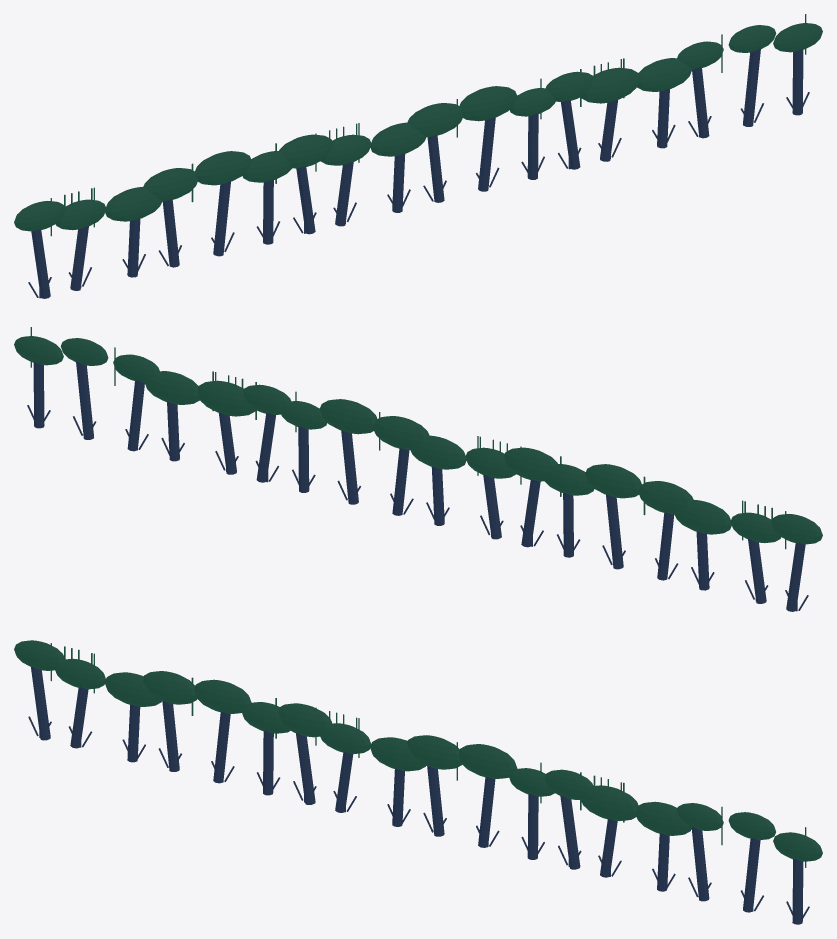
File: reach_mid.glb
3 renders of one model, top to bottom at view 1: azimuth 30°, elevation 25°; view 2: azimuth 150°, elevation 25°; view 3: azimuth 330°, elevation 25°, orthographic.
Parts seen in each view (by area): view 1: Sphere.013, Sphere.005, Sphere.012, Sphere.006, Sphere.008, Sphere.010, Sphere.007, Sphere.001, Sphere.009, Sphere, Sphere.003, Sphere.015 (+24 smaller); view 2: Sphere.013, Sphere.005, Sphere.012, Sphere.006, Sphere.008, Sphere.010, Sphere.007, Sphere.001, Sphere.009, Sphere, Sphere.003, Sphere.015 (+24 smaller); view 3: Sphere.013, Sphere.005, Sphere.012, Sphere.010, Sphere.009, Sphere.001, Sphere.008, Sphere.006, Sphere.007, Sphere.004, Sphere.003, Sphere (+24 smaller).
Boxes of the visible parts, box(x1,y1,x2,y2) form: Sphere.013: box(459, 86, 517, 121); Sphere.005: box(581, 67, 639, 103); Sphere.012: box(195, 151, 251, 185); Sphere.006: box(105, 187, 162, 221); Sphere.008: box(637, 58, 692, 91); Sphere.010: box(407, 103, 463, 137); Sphere.007: box(370, 122, 426, 156); Sphere.001: box(279, 134, 332, 168); Sphere.009: box(143, 168, 198, 201); Sphere: box(14, 201, 65, 231); Sphere.003: box(55, 199, 106, 230); Sphere.015: box(242, 151, 292, 182); Sphere.013: box(319, 399, 377, 434); Sphere.005: box(197, 380, 255, 416); Sphere.012: box(585, 464, 641, 498); Sphere.006: box(674, 500, 731, 534); Sphere.008: box(144, 371, 199, 404); Sphere.010: box(373, 416, 429, 450); Sphere.007: box(410, 435, 466, 469); Sphere.001: box(504, 447, 557, 481); Sphere.009: box(638, 481, 693, 514); Sphere: box(771, 514, 822, 544); Sphere.003: box(730, 512, 781, 543); Sphere.015: box(544, 464, 594, 495); Sphere.013: box(458, 744, 517, 778); Sphere.005: box(581, 785, 638, 820); Sphere.012: box(194, 679, 251, 713); Sphere.010: box(407, 735, 462, 769); Sphere.009: box(143, 671, 197, 704); Sphere.001: box(278, 703, 332, 737); Sphere.008: box(635, 801, 691, 835); Sphere.006: box(105, 672, 161, 706); Sphere.007: box(370, 737, 425, 771); Sphere.004: box(320, 723, 371, 754); Sphere.003: box(55, 658, 105, 689); Sphere: box(14, 640, 64, 670).
Bounding box in the file's own units: 61.11 × 7.31 × 1.38.
